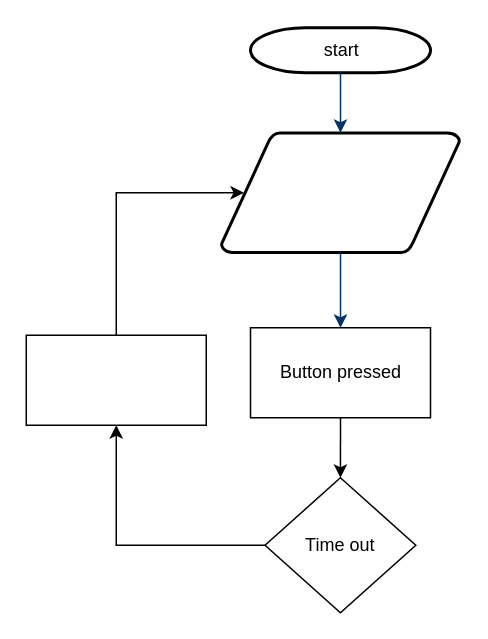
Some shapes in this 488 by 639 pixel diagram are drawn without their labels. Here are the shapes that lost their labels. From the top down, the box of each, then its label:
(219, 130, 460, 254): Blank screen
(25, 334, 206, 425): Delay timer
